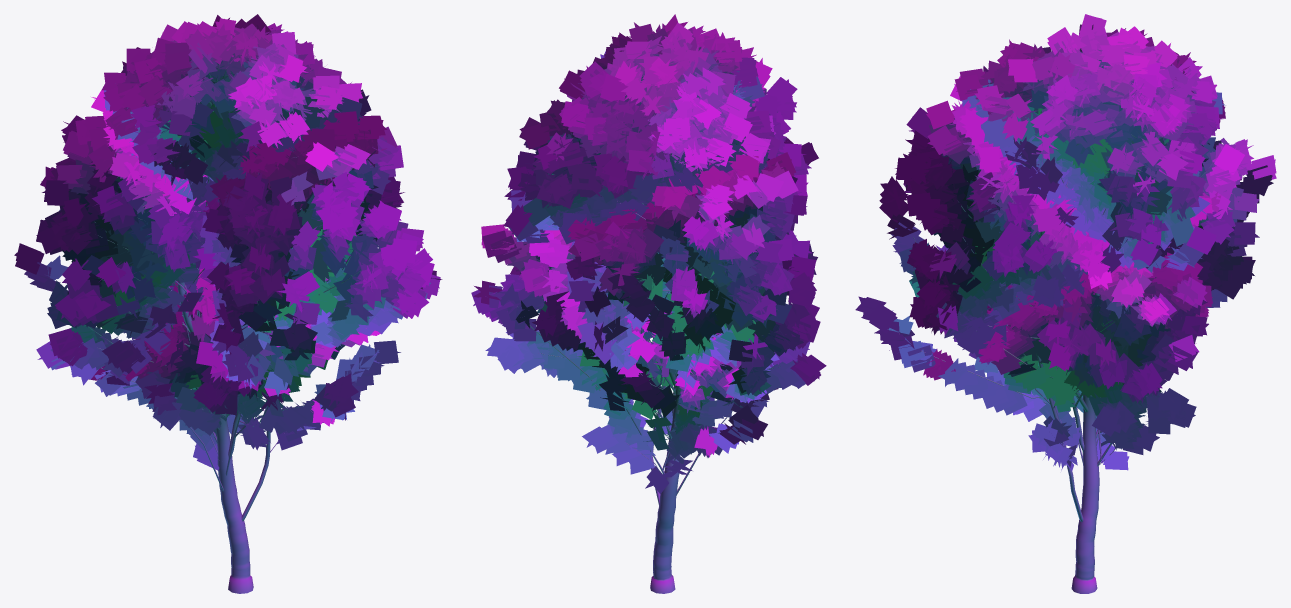
The model's file is tree_birch_s7_a30.fbx.
3 views of the same model, side by side, from view 1: azimuth 30°, elevation 25°; view 2: azimuth 150°, elevation 25°; view 3: azimuth 270°, elevation 25° (orthographic).
Visible parts, largest first — view 1: tree_birch_s7_a30_leaves, tree_birch_s7_a30_branches; view 2: tree_birch_s7_a30_leaves, tree_birch_s7_a30_branches; view 3: tree_birch_s7_a30_leaves, tree_birch_s7_a30_branches.
Part boxes in pixels (x1,y1,x2,y2): tree_birch_s7_a30_leaves: (14, 14, 442, 470); tree_birch_s7_a30_branches: (85, 60, 391, 593); tree_birch_s7_a30_leaves: (471, 14, 826, 493); tree_birch_s7_a30_branches: (517, 201, 780, 593); tree_birch_s7_a30_leaves: (855, 14, 1276, 470); tree_birch_s7_a30_branches: (899, 134, 1213, 593).
Bounding box in the file's own units: 8.06 × 13.18 × 9.03.
